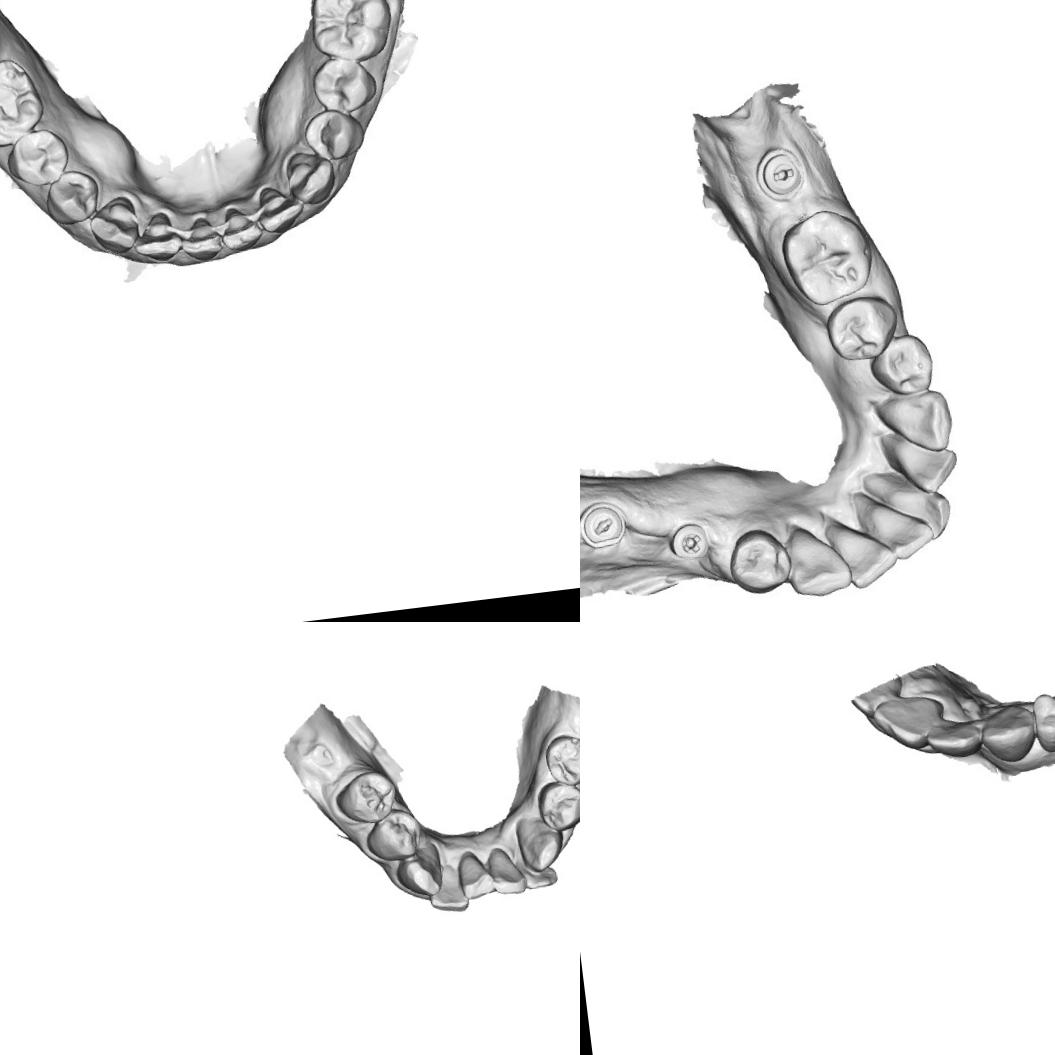canine: (872, 382, 960, 460), (778, 517, 852, 602), (975, 700, 1040, 768), (86, 193, 142, 258), (512, 810, 568, 875), (391, 840, 446, 902), (282, 148, 338, 207)
implant_minus: (748, 131, 816, 211), (580, 489, 640, 564)
implant_plus: (657, 507, 720, 574)
incisor: (870, 466, 955, 548), (827, 508, 899, 591), (884, 424, 960, 494), (869, 691, 949, 755), (860, 498, 936, 565), (130, 209, 184, 265), (924, 716, 984, 764), (254, 182, 307, 235), (424, 860, 470, 916), (484, 842, 528, 900), (454, 846, 498, 902), (216, 204, 264, 253), (180, 213, 226, 264), (514, 849, 561, 892)
molar: (778, 204, 880, 308), (305, 0, 397, 67), (0, 54, 48, 152)
premolar: (822, 287, 898, 366), (864, 327, 936, 397), (726, 524, 794, 598), (309, 52, 380, 117), (3, 125, 72, 190), (331, 766, 401, 828), (301, 106, 367, 164), (361, 806, 423, 866), (42, 168, 103, 227), (533, 778, 580, 834), (540, 729, 580, 790), (1028, 690, 1055, 756)
